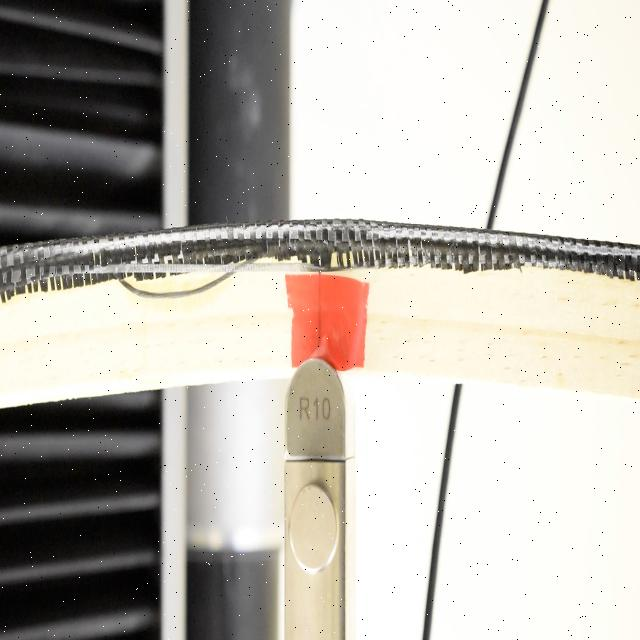wood: (0, 226, 639, 404)
